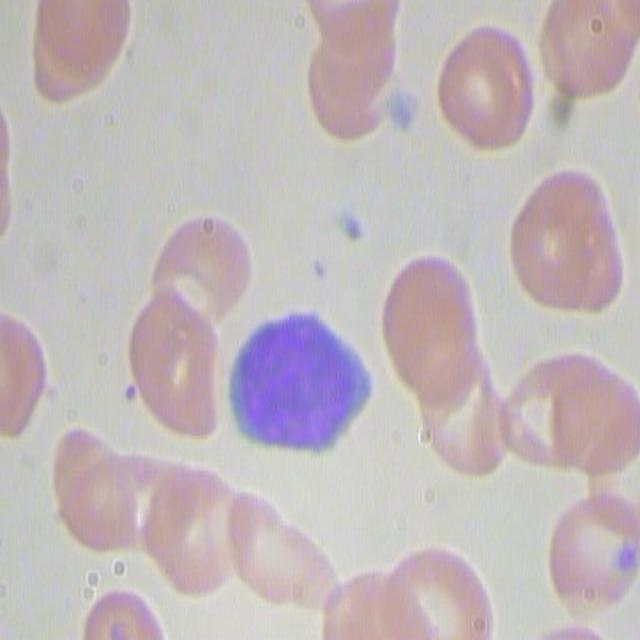RBC: (381, 241, 495, 481), (508, 165, 628, 317), (491, 352, 623, 481), (221, 478, 338, 623), (127, 290, 227, 439), (436, 12, 542, 152), (141, 455, 244, 599), (303, 0, 397, 140), (374, 539, 496, 638), (150, 212, 253, 326), (541, 492, 637, 614), (49, 431, 142, 556), (532, 2, 636, 106), (21, 0, 130, 97), (0, 305, 47, 437), (77, 581, 173, 640)
WBC: (219, 306, 379, 465)
platelets: (382, 86, 421, 136), (342, 213, 367, 247), (307, 256, 332, 286)
